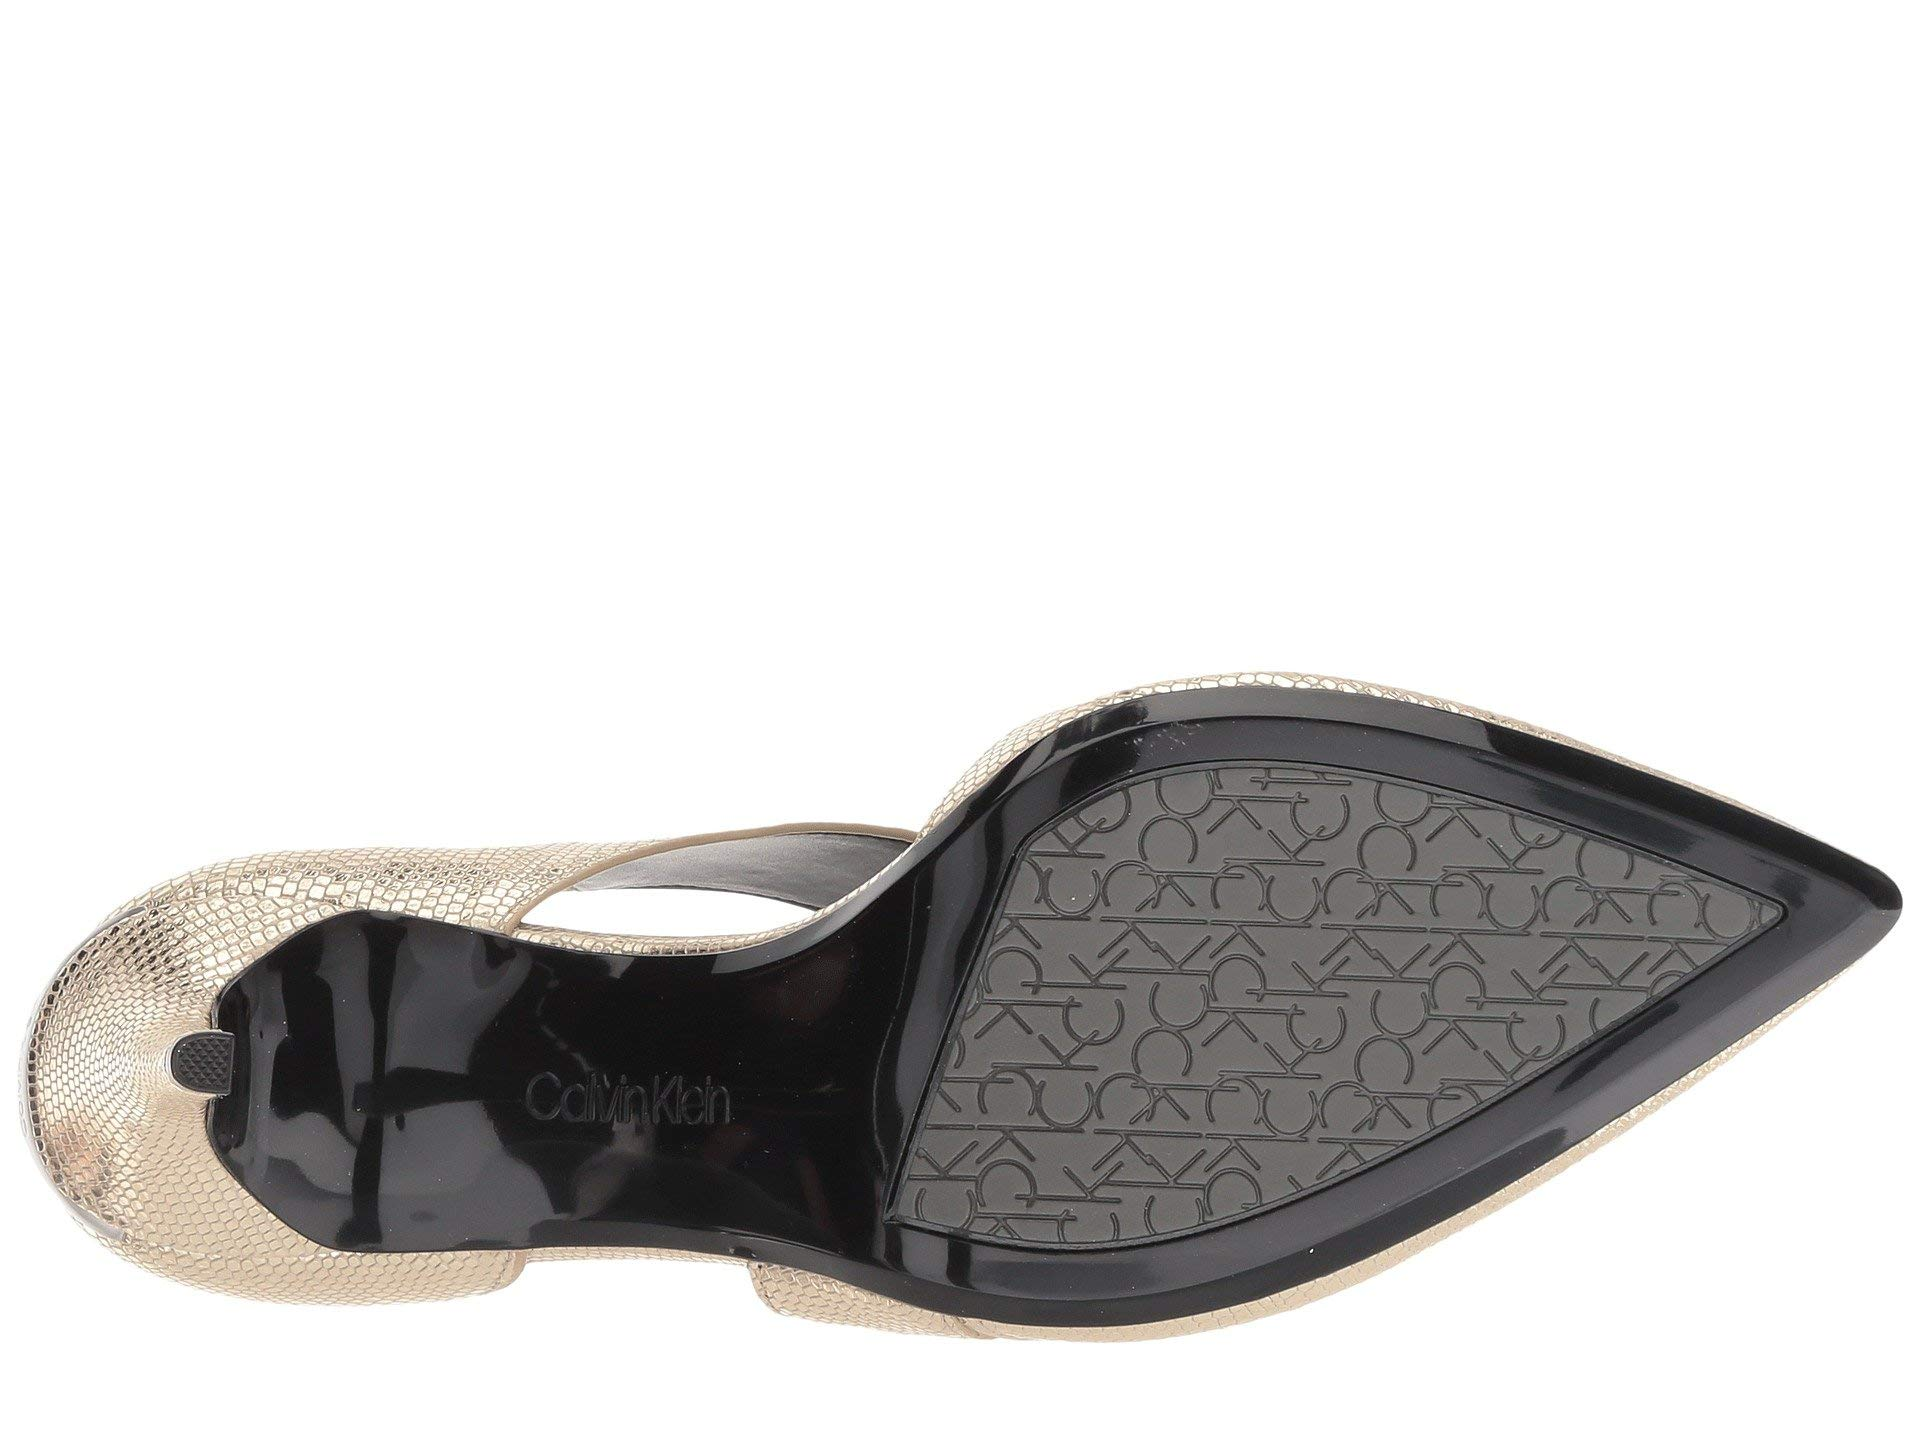exclude: (305, 781, 857, 1327)
line: (1098, 747, 1542, 1130)
quad: (168, 1015, 230, 1097)
text: (1098, 747, 1542, 1130)
